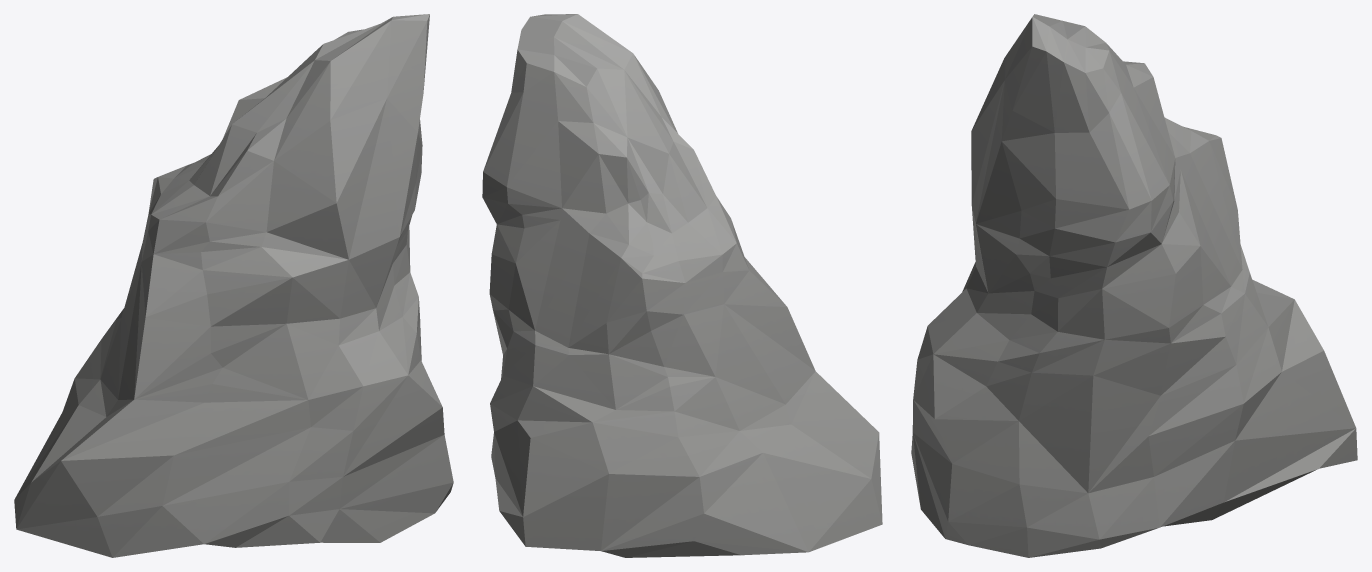
File: Cavern_Wall_Filler-01.fbx
3 renders of one model, left to right at view 1: azimuth 30°, elevation 25°; view 2: azimuth 150°, elevation 25°; view 3: azimuth 270°, elevation 25°, orthographic. The views are drawn at different scales.
Parts seen in each view (by area): view 1: Cavern_Wall_Filler-01; view 2: Cavern_Wall_Filler-01; view 3: Cavern_Wall_Filler-01.
Part boxes in pixels (x1,y1,x2,y2): Cavern_Wall_Filler-01: (14, 14, 453, 557); Cavern_Wall_Filler-01: (482, 14, 882, 557); Cavern_Wall_Filler-01: (911, 14, 1357, 557).
Size of the model in its own units: 1211 by 1337 by 1029.
1 material, 1 textured.
